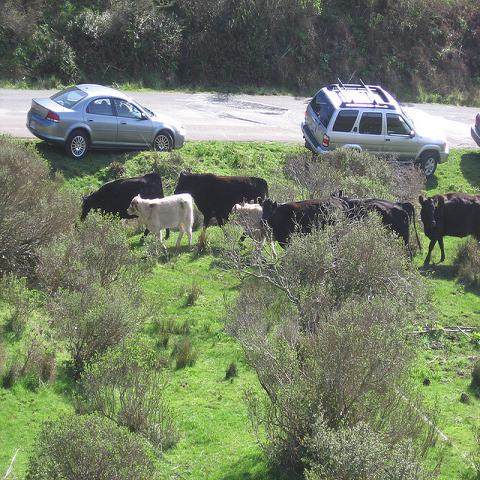car: (300, 83, 452, 181), (26, 82, 185, 156), (469, 112, 480, 146)
